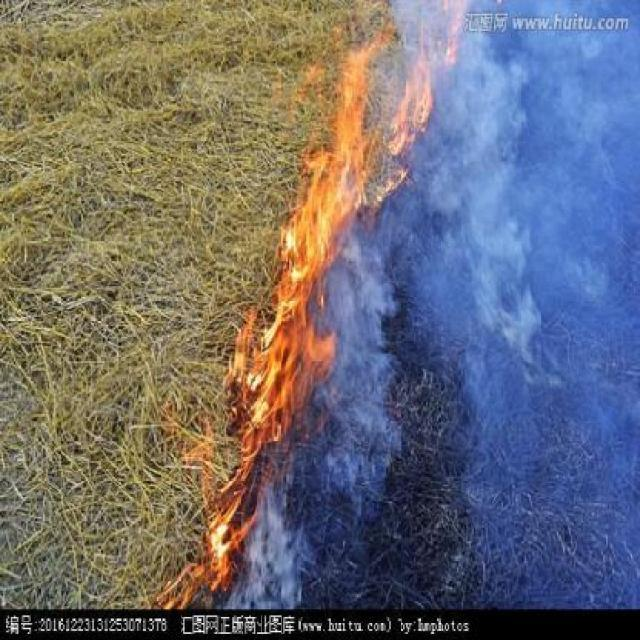Fire: (148, 0, 472, 602)
